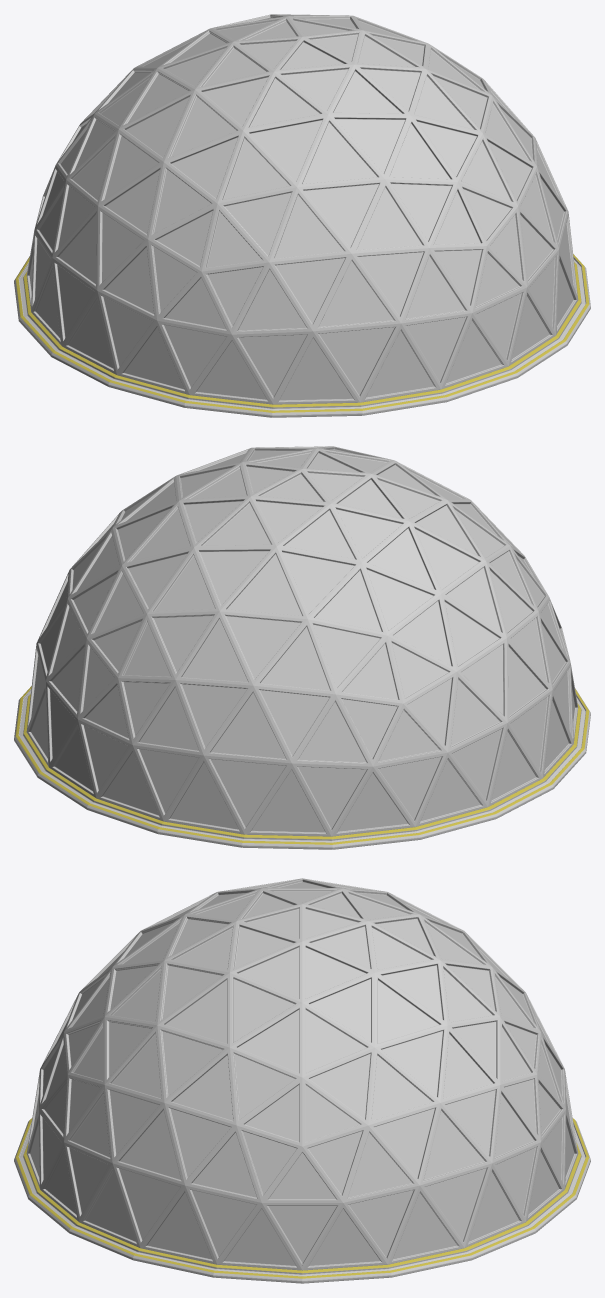
The picture shows the model from 3 angles, top to bottom: view 1: azimuth 30°, elevation 25°; view 2: azimuth 150°, elevation 25°; view 3: azimuth 270°, elevation 25°; orthographic projection.
Visible parts, largest first — view 1: node_1, node_2, node_4, node_3, node_5; view 2: node_1, node_2, node_4, node_3, node_5; view 3: node_1, node_2, node_4, node_3, node_5.
Boxes of the visible parts, bbox=[...] form: node_1: bbox=[29, 17, 573, 400]; node_2: bbox=[14, 14, 590, 417]; node_4: bbox=[15, 254, 589, 412]; node_3: bbox=[19, 259, 585, 410]; node_5: bbox=[18, 257, 586, 409]; node_1: bbox=[31, 449, 575, 832]; node_2: bbox=[14, 446, 590, 849]; node_4: bbox=[15, 686, 589, 844]; node_3: bbox=[19, 691, 585, 842]; node_5: bbox=[18, 689, 586, 841]; node_1: bbox=[30, 882, 574, 1265]; node_2: bbox=[14, 878, 590, 1283]; node_4: bbox=[15, 1118, 589, 1278]; node_3: bbox=[19, 1126, 585, 1276]; node_5: bbox=[18, 1122, 586, 1274].
Bounding box in the file's own units: 4.13 × 2.04 × 4.13.
